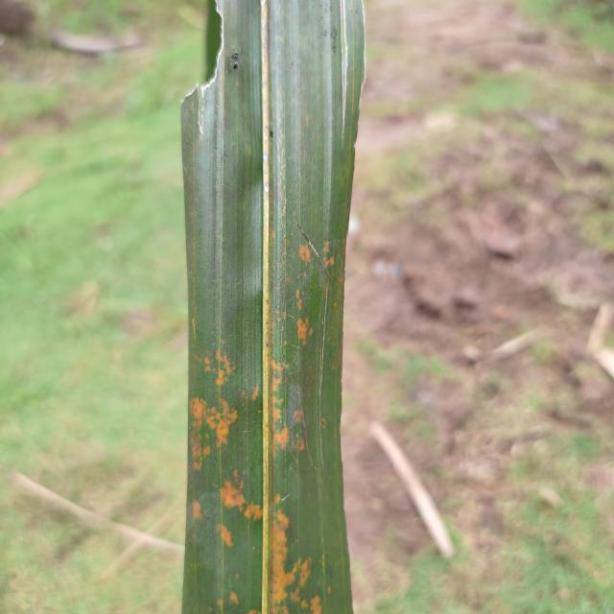Kalium: (178, 0, 366, 614)
